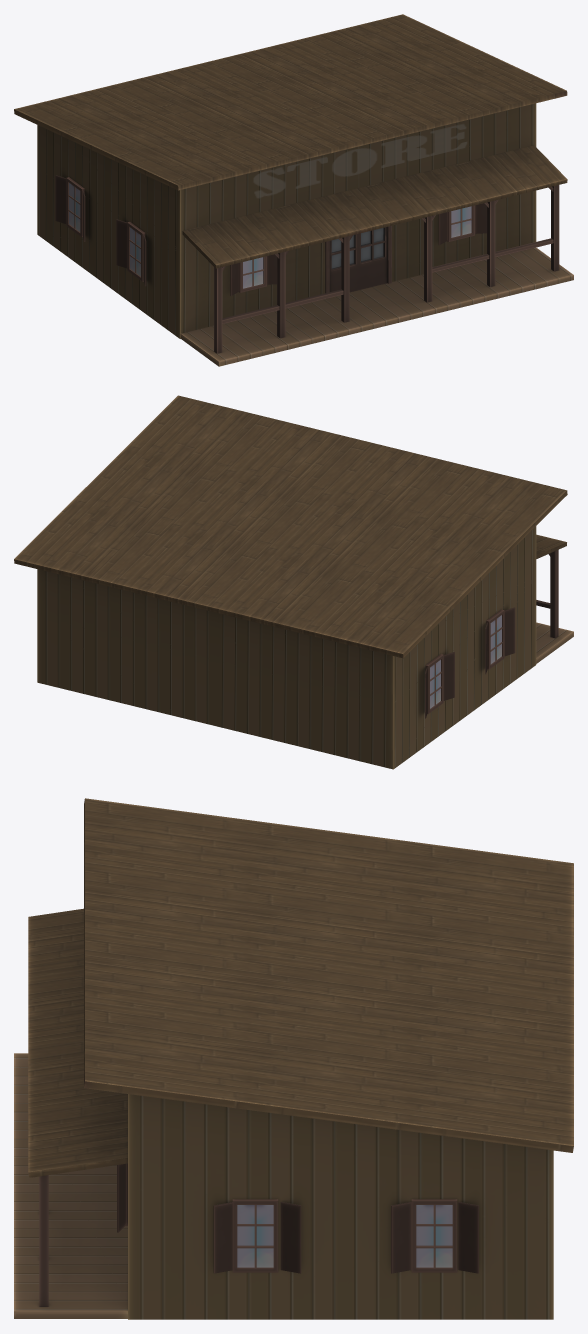
Rendered from Store.fbx.
3 renders of one model, top to bottom at view 1: azimuth 30°, elevation 25°; view 2: azimuth 150°, elevation 25°; view 3: azimuth 270°, elevation 25°, orthographic. The views are drawn at different scales.
Parts seen in each view (by area): view 1: Building_2; view 2: Building_2; view 3: Building_2.
Boxes of the visible parts, box(x1,y1,x2,y2) form: Building_2: box(14, 14, 573, 366); Building_2: box(14, 395, 573, 769); Building_2: box(14, 798, 573, 1319).
Bounding box in the file's own units: 342 × 141 × 286.
